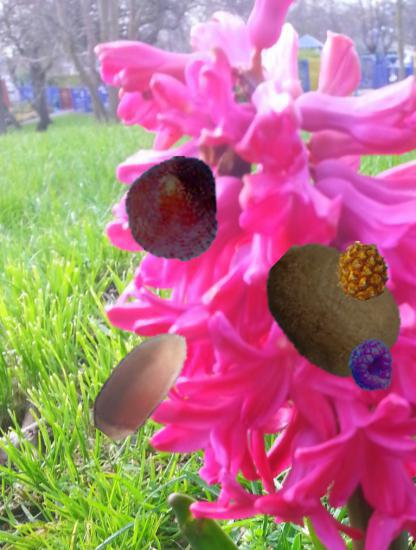Hazelnut: (77, 316, 208, 447)
Kiwi: (258, 237, 406, 385)
Pineapple: (332, 241, 393, 302)
Raspberry: (345, 339, 399, 393)
Salak: (119, 157, 224, 262)
